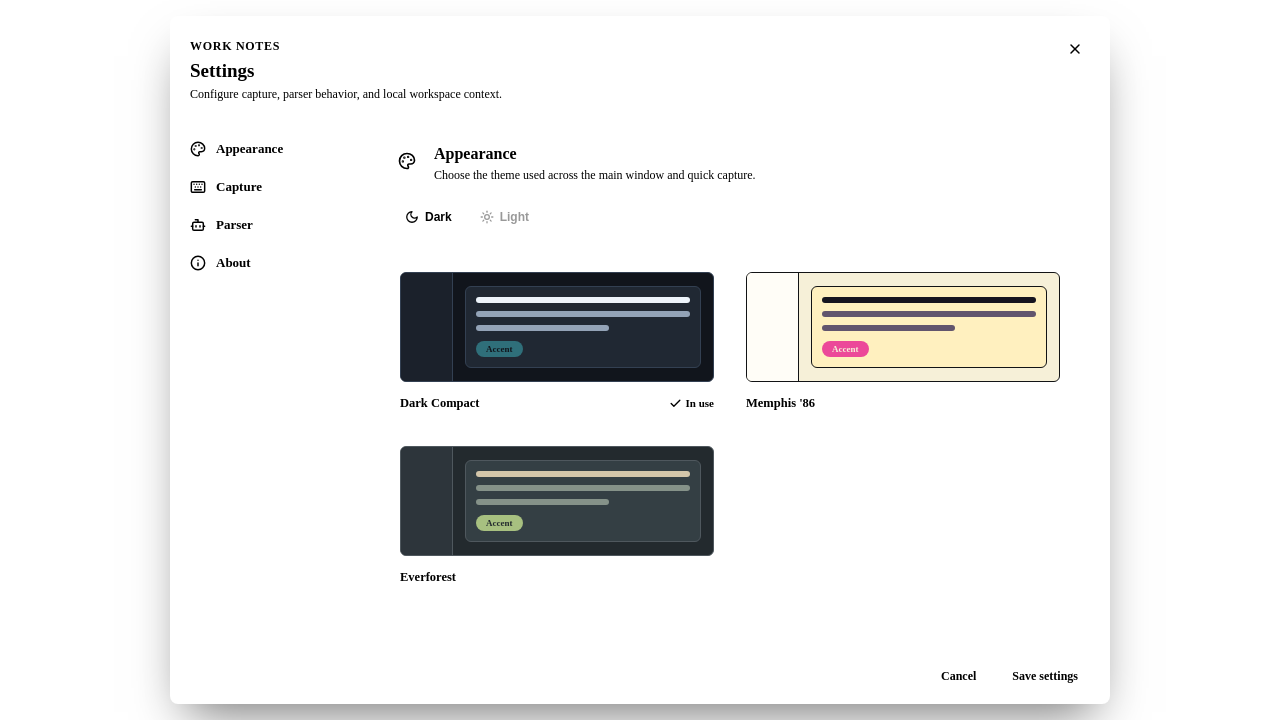
SettingsView › shows app version and update actions in the about section
The width and height of the screenshot is (1280, 720).
Click the button "About".
click(265, 263)  # box [180,246,350,280]
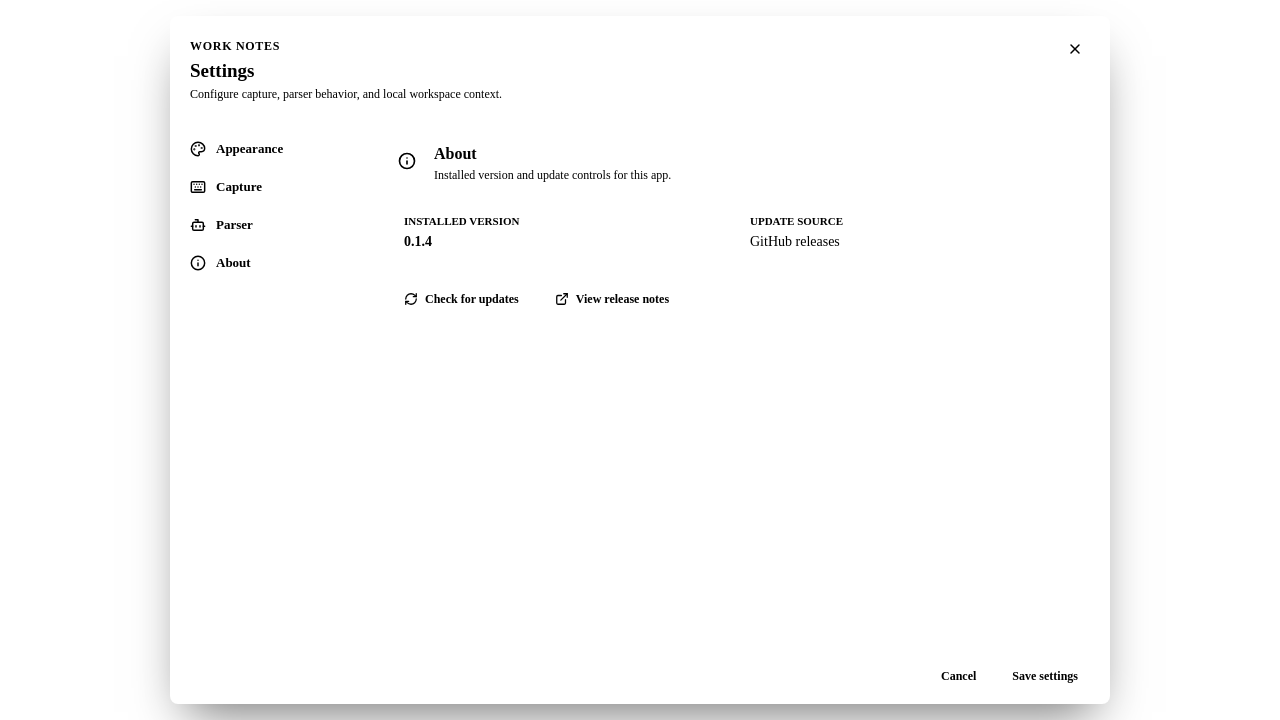
Result: the heading "About" is shown at [434,145,477,162]
Result: the text "0.1.4" is shown at [404,234,432,249]
Result: the button "Check for updates" is shown at [390,283,533,315]
